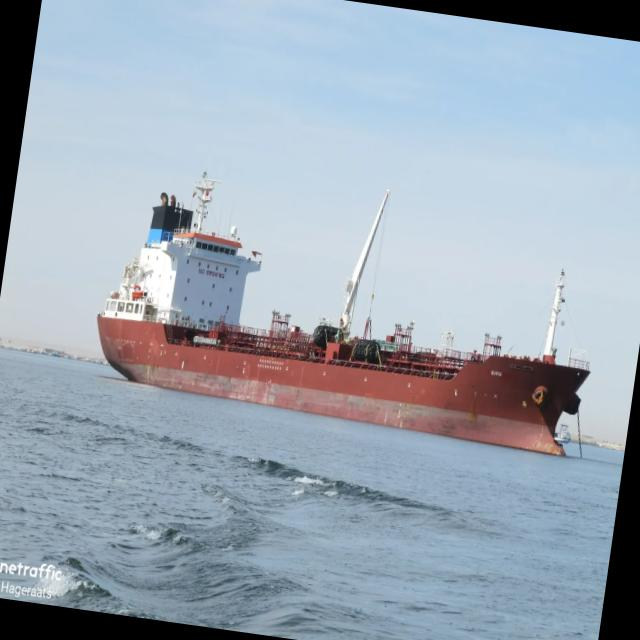Tanker: (97, 174, 589, 454)
